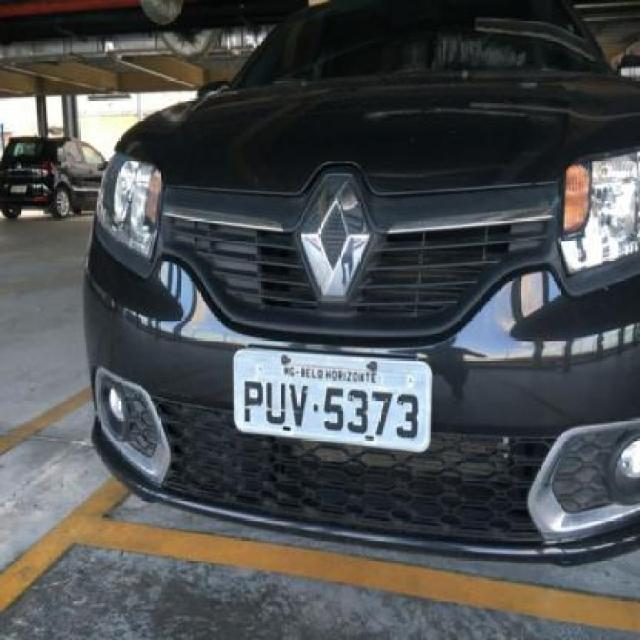old_plate: (226, 342, 438, 458)
